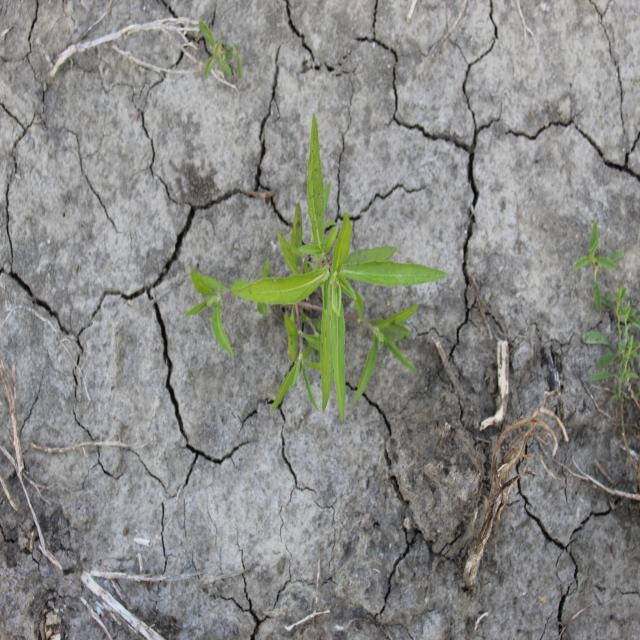Eclipta: (184, 111, 450, 424)
